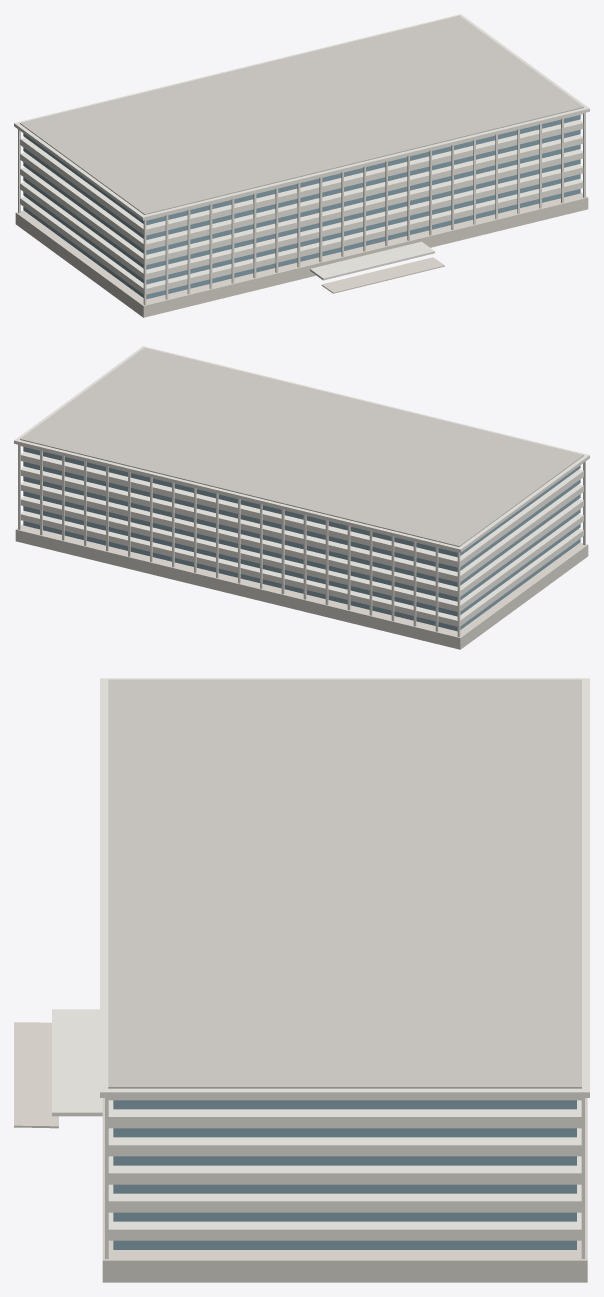
The model's file is 文澜楼.glb.
3 views of the same model, one above another, from view 1: azimuth 30°, elevation 25°; view 2: azimuth 150°, elevation 25°; view 3: azimuth 270°, elevation 25° (orthographic). The views are drawn at different scales.
Parts seen in each view (by area): view 1: 文澜楼_roofDeck, 文澜楼_trim, 文澜楼_glass, 文澜楼_stone; view 2: 文澜楼_roofDeck, 文澜楼_trim, 文澜楼_glass, 文澜楼_stone; view 3: 文澜楼_roofDeck, 文澜楼_trim, 文澜楼_glass, 文澜楼_stone.
Part boxes in pixels (left/top/right/bottom): 文澜楼_roofDeck: left=20, top=15, right=583, bottom=214; 文澜楼_trim: left=14, top=14, right=589, bottom=305; 文澜楼_glass: left=23, top=115, right=580, bottom=299; 文澜楼_stone: left=15, top=192, right=588, bottom=317; 文澜楼_roofDeck: left=20, top=347, right=583, bottom=546; 文澜楼_trim: left=14, top=346, right=589, bottom=637; 文澜楼_glass: left=23, top=447, right=580, bottom=631; 文澜楼_stone: left=15, top=524, right=588, bottom=649; 文澜楼_roofDeck: left=108, top=679, right=581, bottom=1088; 文澜楼_trim: left=52, top=678, right=589, bottom=1258; 文澜楼_glass: left=113, top=1100, right=576, bottom=1249; 文澜楼_stone: left=14, top=1022, right=587, bottom=1282.
Size of the model in its own units: 120 by 26.15 by 70.55.
